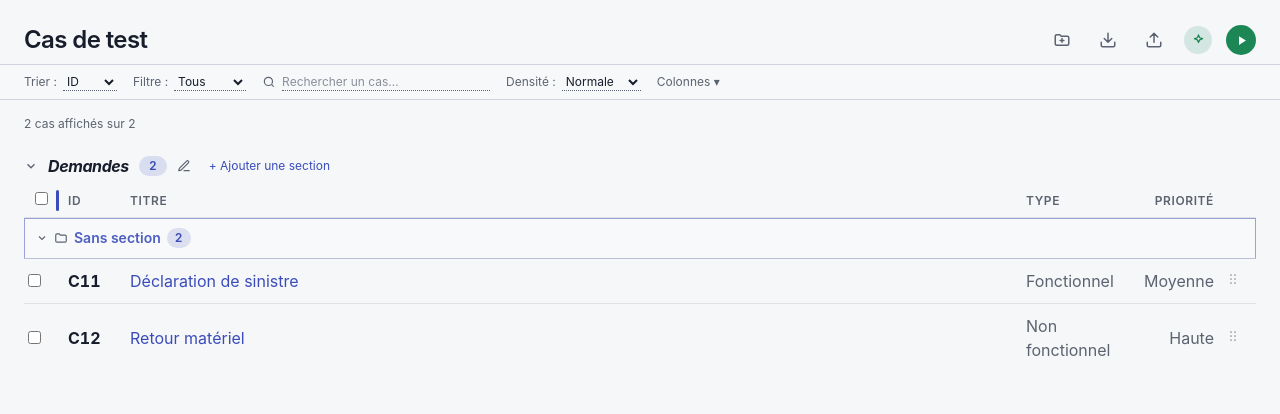
Test: la sélection › n'affiche la barre d'actions QUE lorsqu'il y a une sélection
Expected: the text "cas sélectionné" is not shown
Click the checkbox named "Sélectionner Déclaration de sinistre": x=34, y=280 [28,274,41,287]
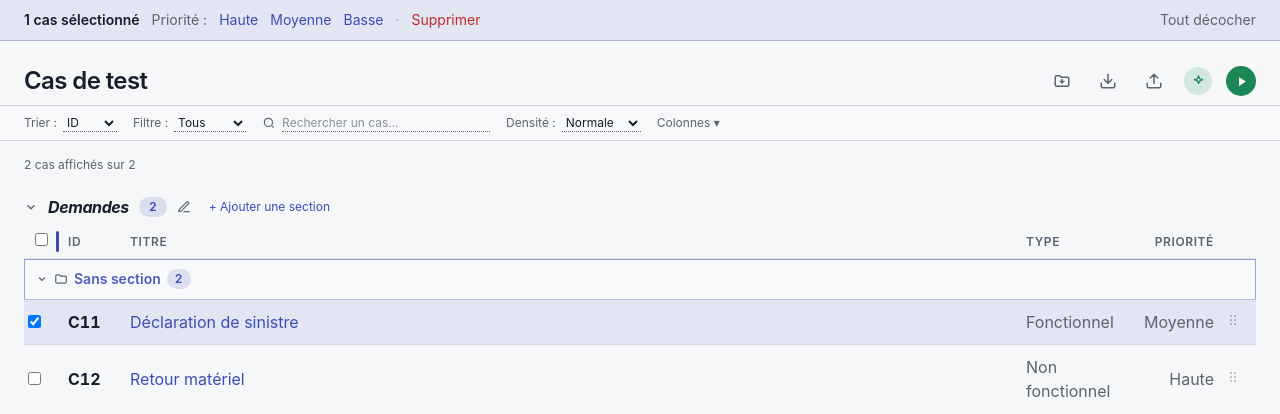
Now the text "1 cas sélectionné" is shown, box [24,10,140,30]
Now the text "Priorité :" is shown, box [152,10,207,30]
